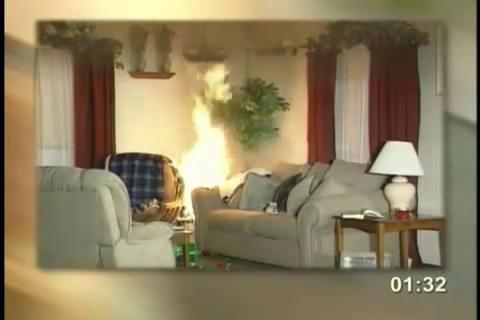fire: (160, 53, 253, 208)
